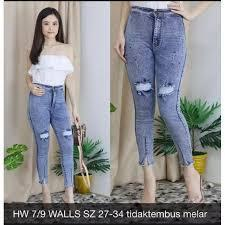pants: (123, 8, 190, 169), (28, 85, 77, 188)
